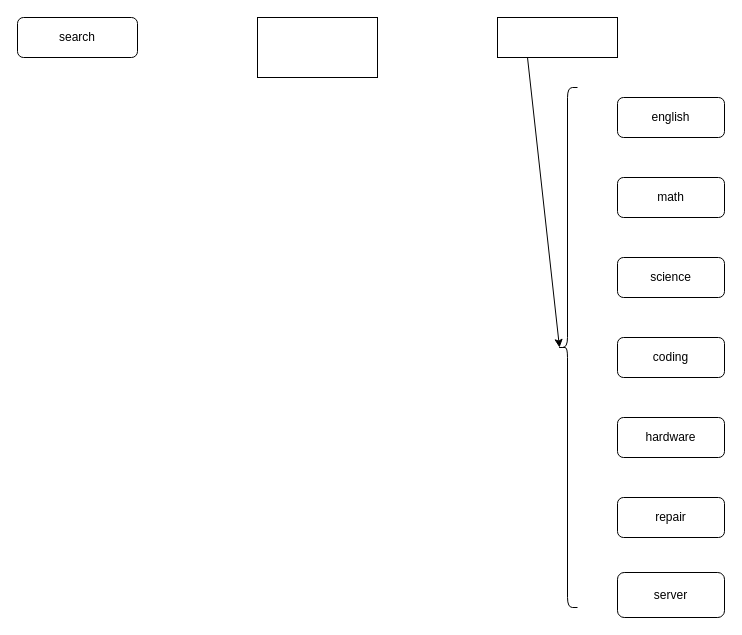
Some shapes in this 742 by 635 pixel diagram are drawn without their labels. Here are the shapes that lost their labels. From the top down, the box of each, then its label:
(256, 16, 378, 78): wiki
(496, 16, 618, 58): pages
